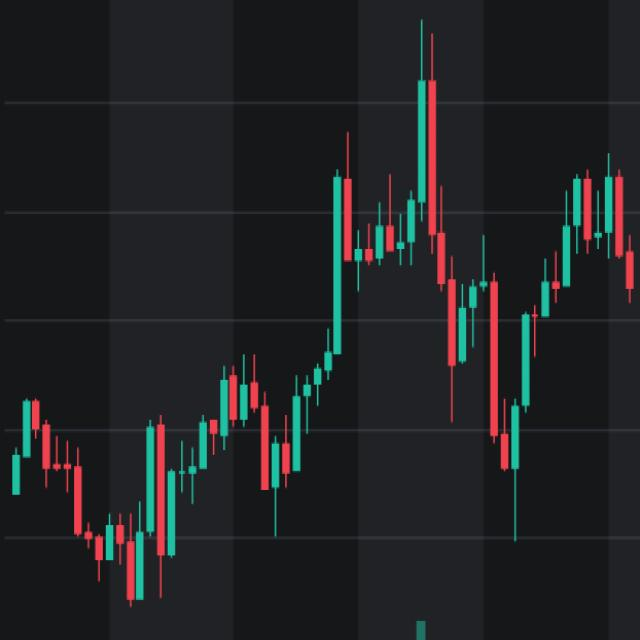Resistance-Emerging: (1, 335, 334, 612)
